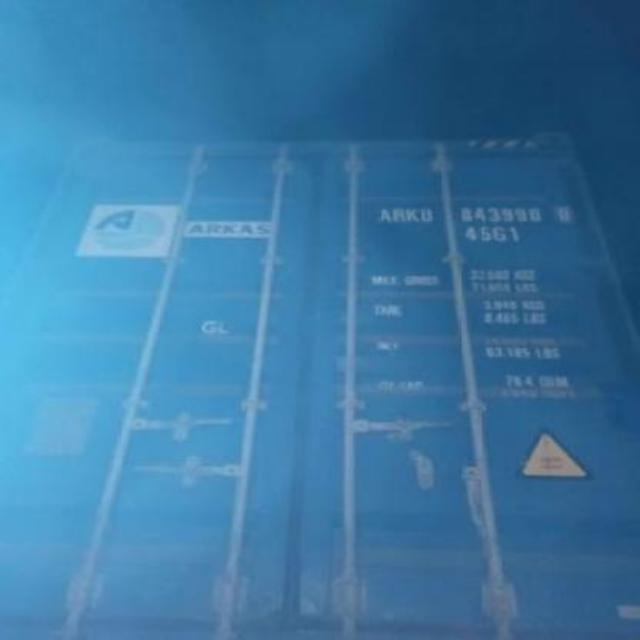0: (552, 199, 576, 225), (528, 198, 544, 228)
3: (486, 199, 499, 225)
4: (472, 199, 486, 225)
8: (458, 200, 472, 224)
9: (512, 198, 528, 228), (498, 198, 514, 226)
A: (376, 202, 389, 228)
K: (404, 198, 418, 230)
R: (388, 200, 404, 228)
U: (418, 198, 436, 232)
